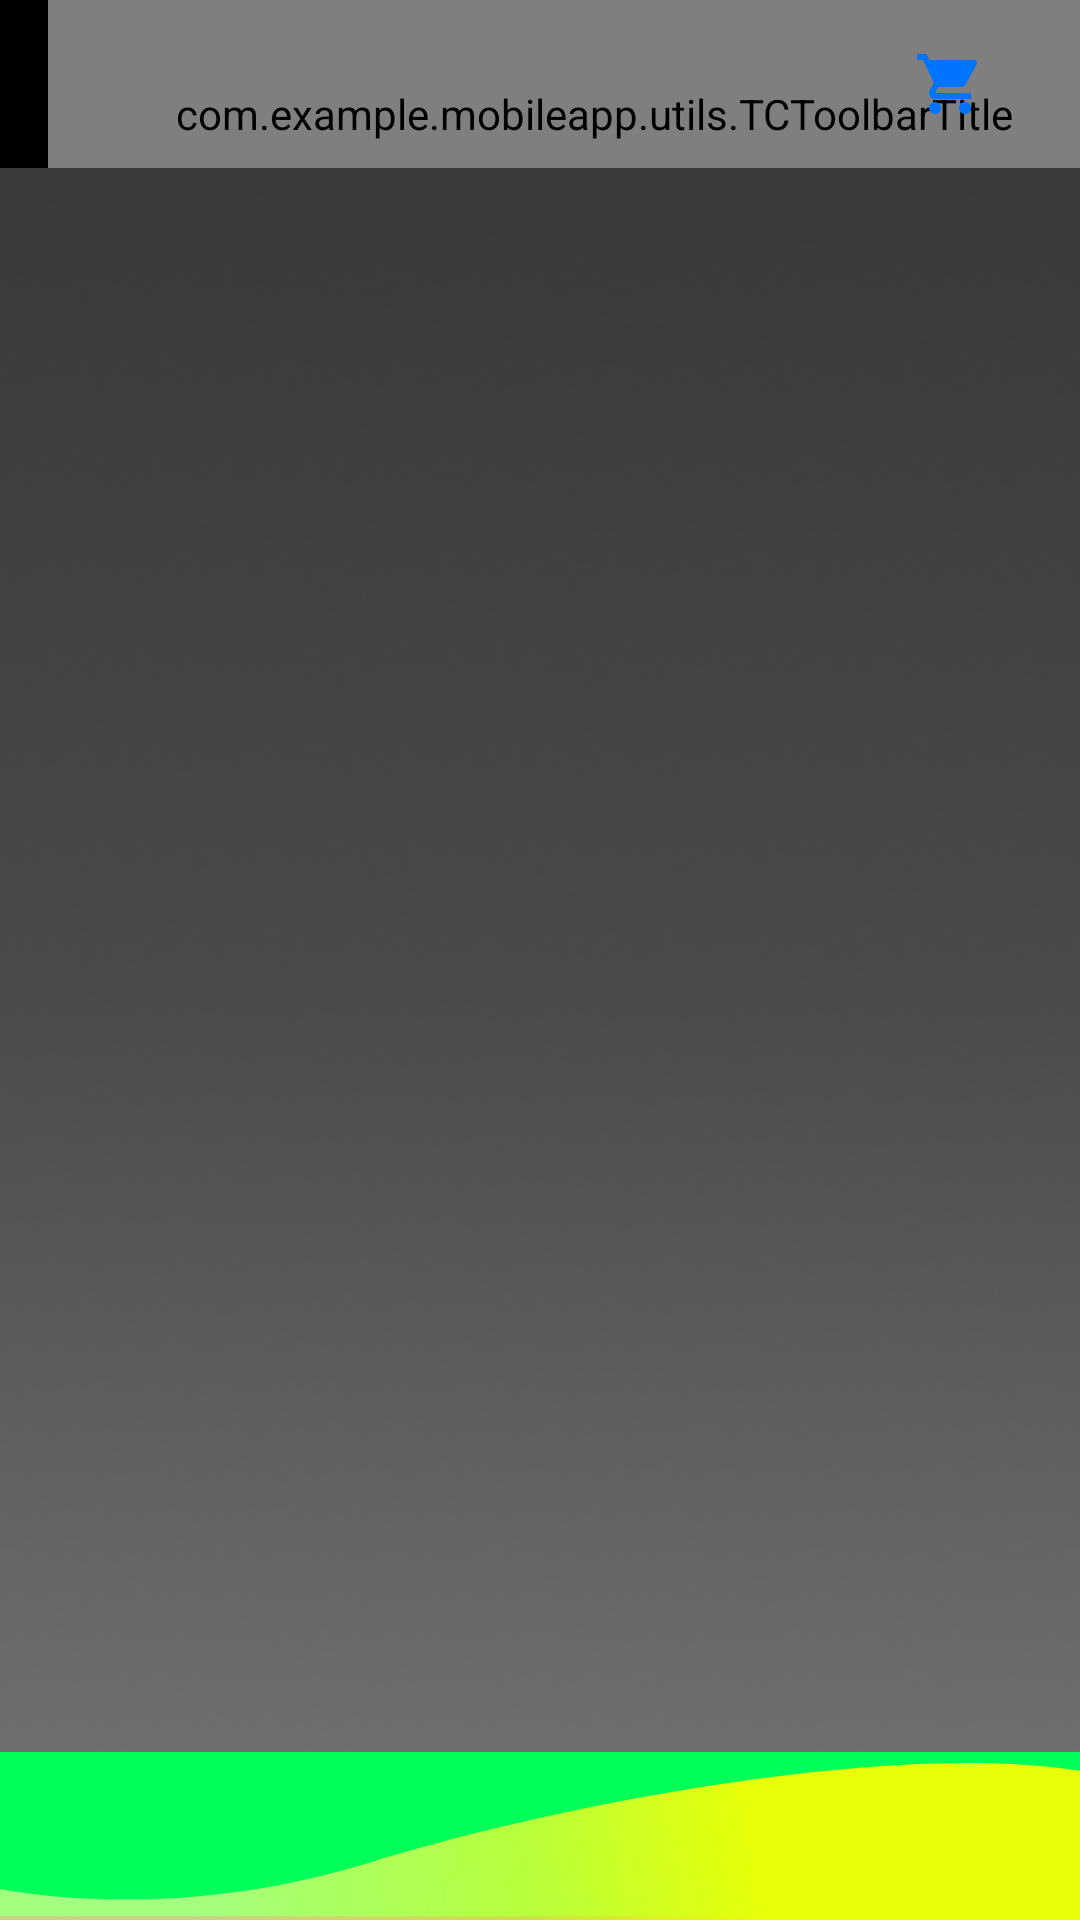

Icon click points for this 1080w x 1920h phone screenshot, format (x=x, y=y):
shopping cart: (x=947, y=76)
